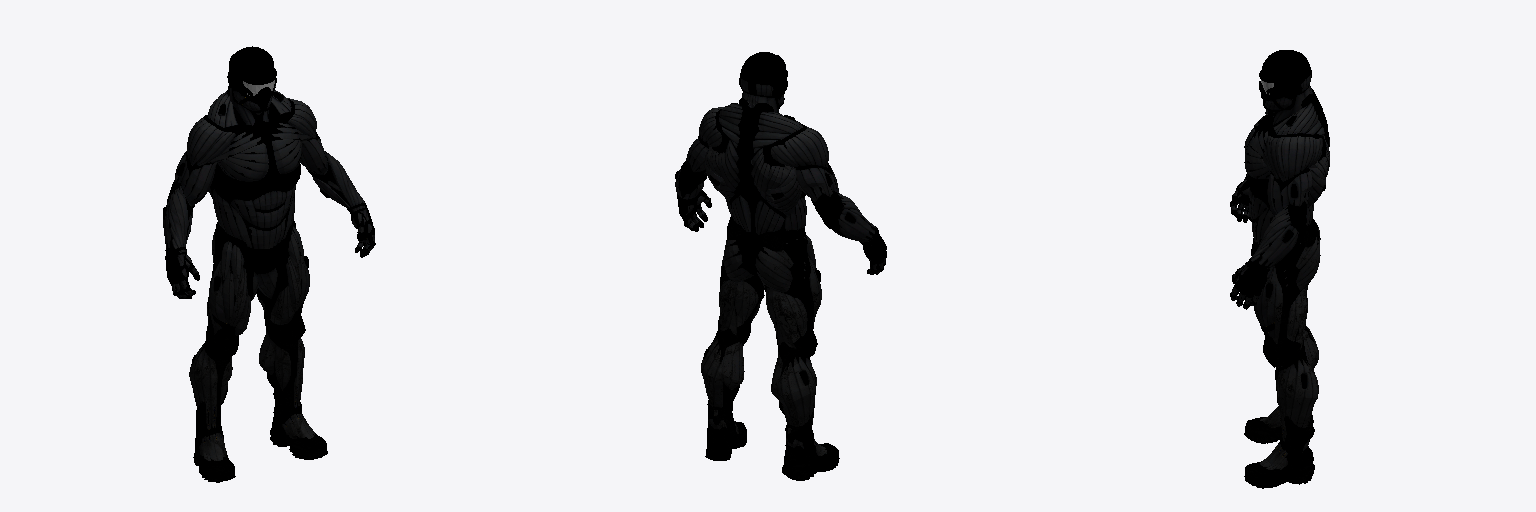
3 views of the same model, side by side, from view 1: azimuth 30°, elevation 25°; view 2: azimuth 150°, elevation 25°; view 3: azimuth 270°, elevation 25° (orthographic).
Visible parts, largest first — view 1: Legs, Body, Arms, Helmet, hands; view 2: Legs, Body, Arms, Helmet, hands; view 3: Legs, Arms, Body, Helmet, hands.
Boxes of the visible parts, x1=… form: Legs: x1=189, y1=219, x2=327, y2=482; Body: x1=203, y1=84, x2=301, y2=248; Arms: x1=163, y1=98, x2=366, y2=256; Helmet: x1=227, y1=46, x2=276, y2=125; hands: x1=165, y1=208, x2=375, y2=298; Legs: x1=701, y1=216, x2=839, y2=480; Body: x1=705, y1=97, x2=806, y2=234; Arms: x1=675, y1=107, x2=878, y2=245; Helmet: x1=739, y1=52, x2=787, y2=113; hands: x1=677, y1=191, x2=886, y2=274; Legs: x1=1244, y1=218, x2=1320, y2=488; Arms: x1=1245, y1=110, x2=1322, y2=273; Body: x1=1244, y1=86, x2=1329, y2=243; Helmet: x1=1259, y1=50, x2=1311, y2=124; hands: x1=1230, y1=177, x2=1266, y2=309.
Size of the model in its own units: 1.6 by 3.08 by 0.6879.
6 materials, 5 textured.